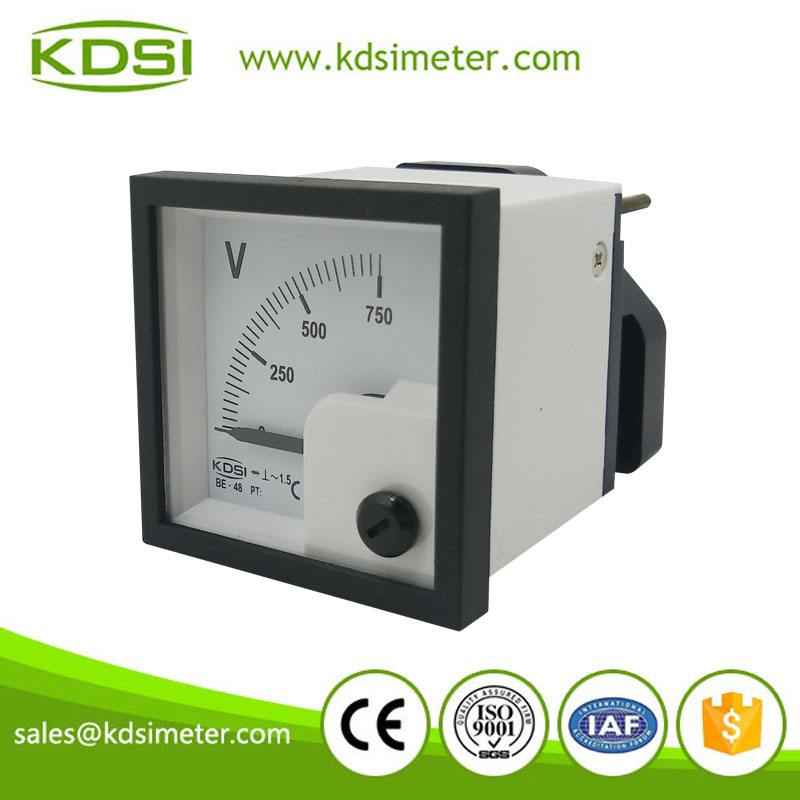pointer: (153, 206, 436, 594)
